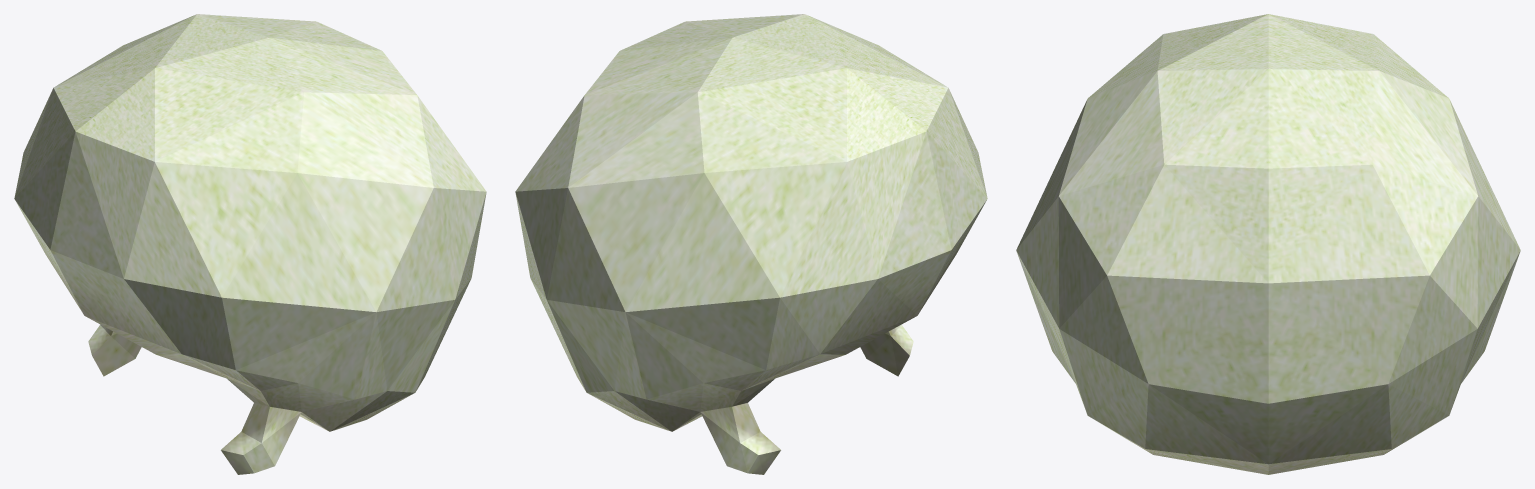
File: Panda_afro.obj
3 renders of one model, left to right at view 1: azimuth 30°, elevation 25°; view 2: azimuth 150°, elevation 25°; view 3: azimuth 270°, elevation 25°, orthographic. The views are drawn at different scales.
Parts seen in each view (by area): view 1: Panda_afro_tri; view 2: Panda_afro_tri; view 3: Panda_afro_tri.
Boxes of the visible parts, <box> form: Panda_afro_tri: <box>14,14,486,474</box>; Panda_afro_tri: <box>515,14,987,474</box>; Panda_afro_tri: <box>1016,14,1520,474</box>.
Size of the model in its own units: 0.5539 by 0.5076 by 0.6149.
1 material, 1 textured.
